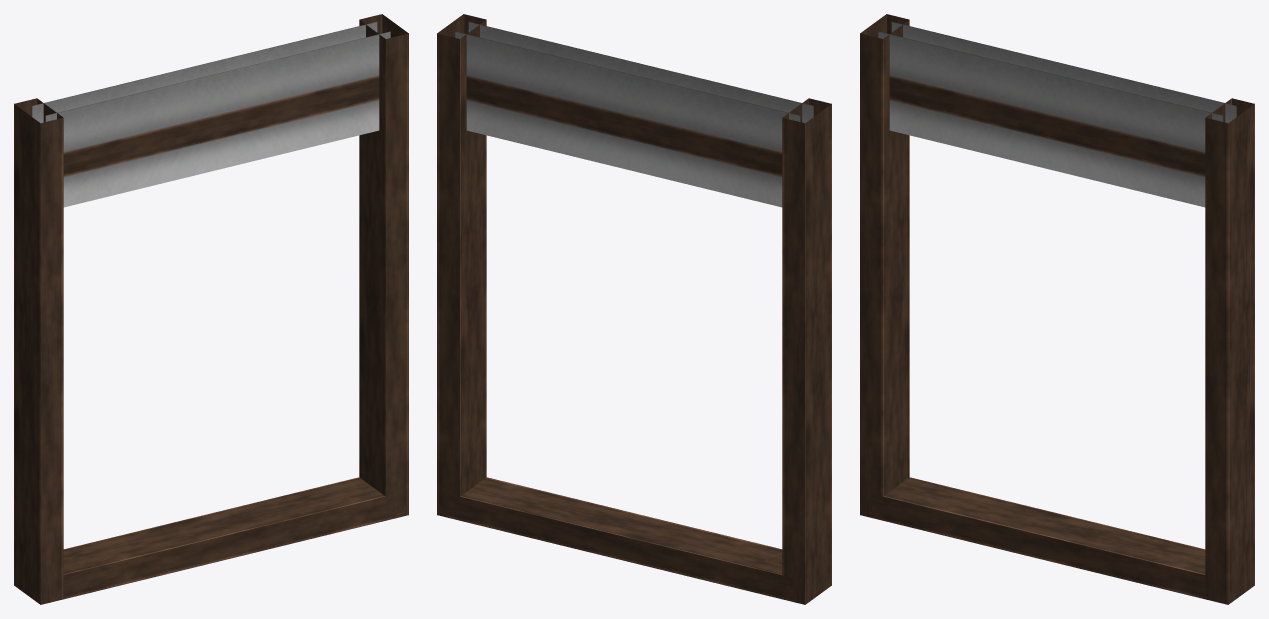
File: house_passage_3x4.fbx
3 views of the same model, side by side, from view 1: azimuth 30°, elevation 25°; view 2: azimuth 150°, elevation 25°; view 3: azimuth 330°, elevation 25° (orthographic).
Parts seen in each view (by area): view 1: house_passage_3x4; view 2: house_passage_3x4; view 3: house_passage_3x4.
Boxes of the visible parts, bbox=[...] form: house_passage_3x4: bbox=[14, 14, 408, 604]; house_passage_3x4: bbox=[437, 14, 831, 604]; house_passage_3x4: bbox=[860, 14, 1254, 604].
Bounding box in the file's own units: 320 × 400 × 40.
